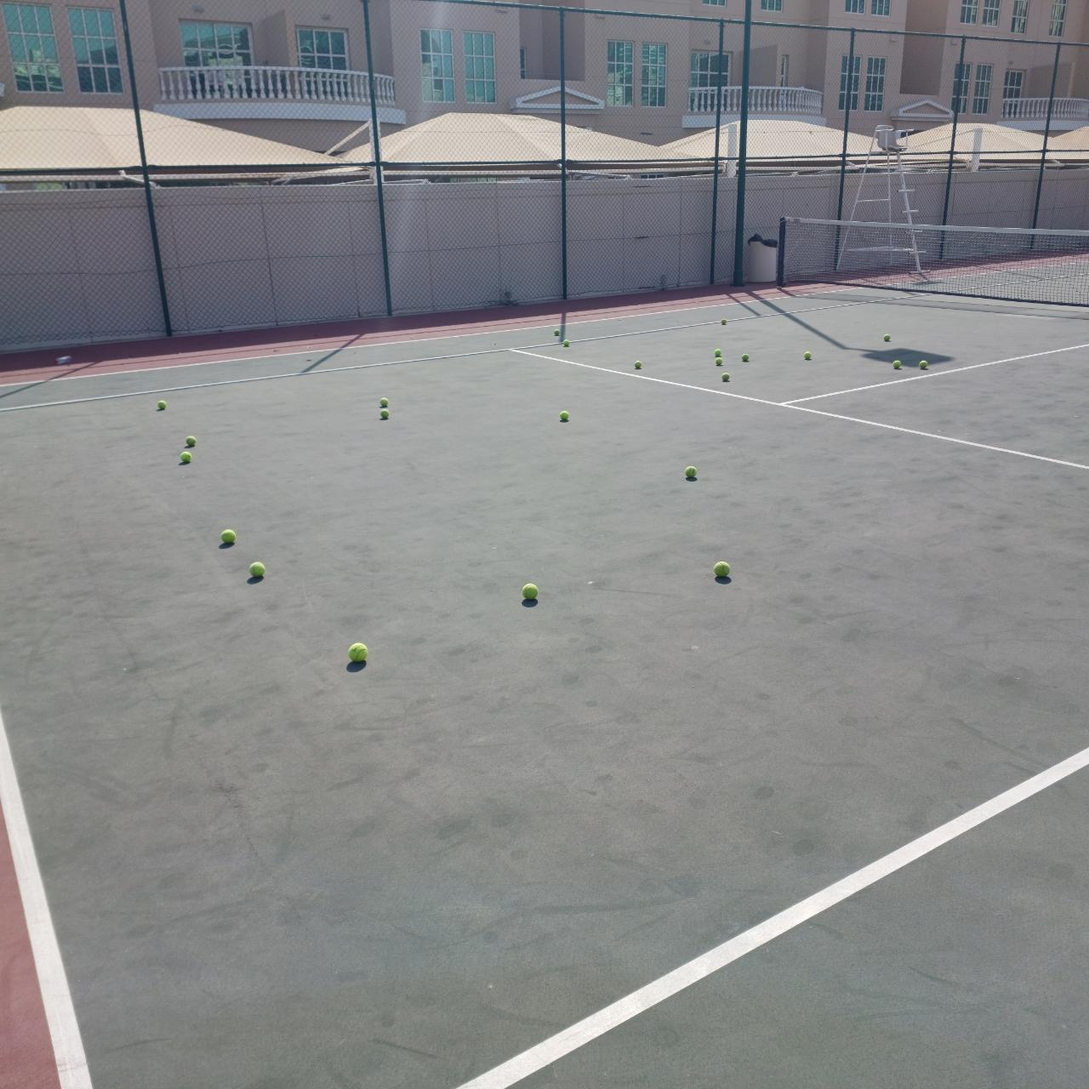tennis-ball: (346, 640, 368, 663), (521, 581, 539, 601), (712, 559, 730, 579), (249, 562, 265, 578), (220, 528, 236, 544), (684, 465, 697, 477), (180, 451, 191, 463), (185, 435, 196, 446), (560, 411, 569, 420), (381, 409, 389, 419), (919, 360, 928, 368), (157, 401, 166, 409), (721, 373, 729, 381), (893, 360, 901, 368), (380, 398, 388, 406), (634, 361, 642, 368), (714, 348, 721, 356), (883, 334, 891, 341), (742, 354, 749, 361), (804, 352, 811, 359), (716, 358, 722, 365), (721, 318, 727, 325), (563, 339, 569, 345), (554, 329, 560, 335)
